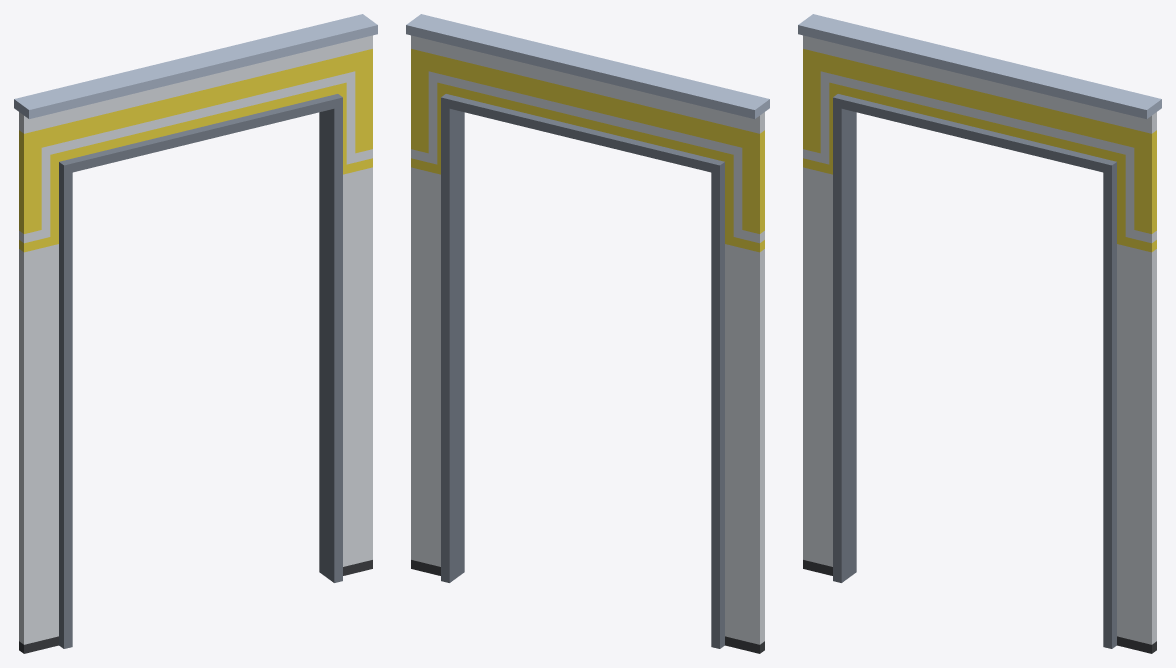
File: wall-yellow-door-frame.obj
3 renders of one model, left to right at view 1: azimuth 30°, elevation 25°; view 2: azimuth 150°, elevation 25°; view 3: azimuth 330°, elevation 25°, orthographic.
Bounding box in the file's own units: 4 × 6 × 0.3.
1 material, 1 textured.
